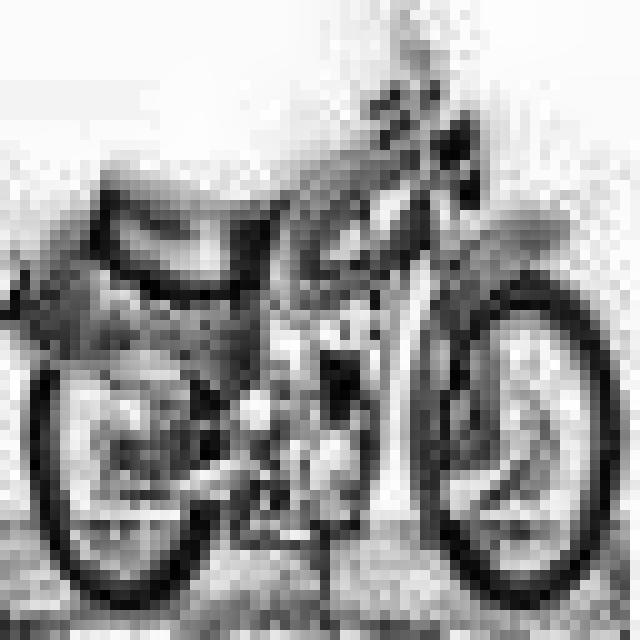mopeds: (0, 81, 634, 622)
